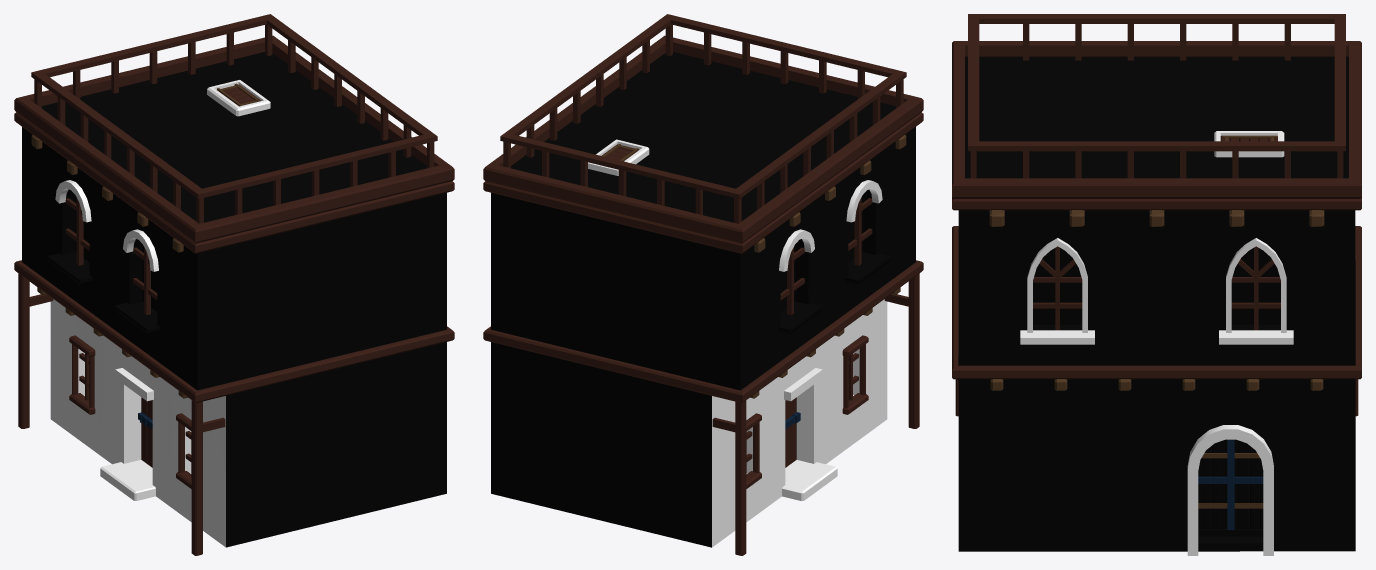
The model's file is civilian_house_37_b.FBX.
3 views of the same model, side by side, from view 1: azimuth 30°, elevation 25°; view 2: azimuth 150°, elevation 25°; view 3: azimuth 270°, elevation 25° (orthographic). The views are drawn at different scales.
Parts seen in each view (by area): view 1: civilian_house_37_b; view 2: civilian_house_37_b; view 3: civilian_house_37_b.
Boxes of the visible parts, left/top/right/bottom form: civilian_house_37_b: left=14, top=14, right=454, bottom=555; civilian_house_37_b: left=483, top=14, right=923, bottom=555; civilian_house_37_b: left=952, top=14, right=1361, bottom=555.
Size of the model in its own units: 634 by 783 by 723.
